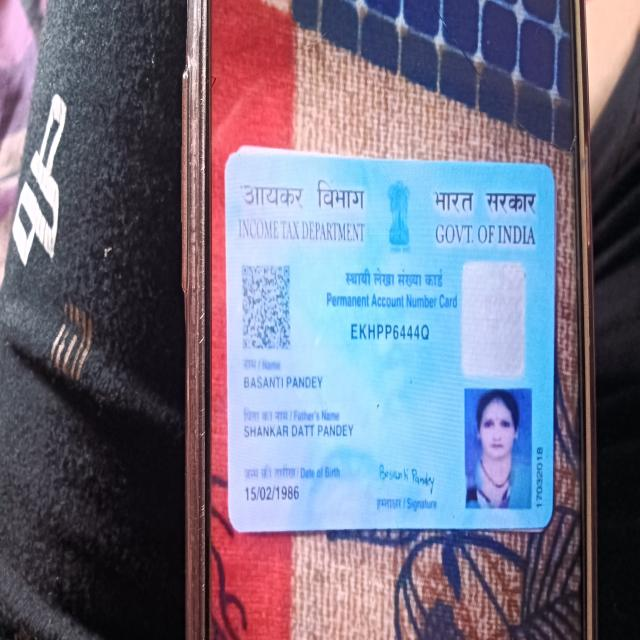pan_card: (230, 157, 553, 527)
